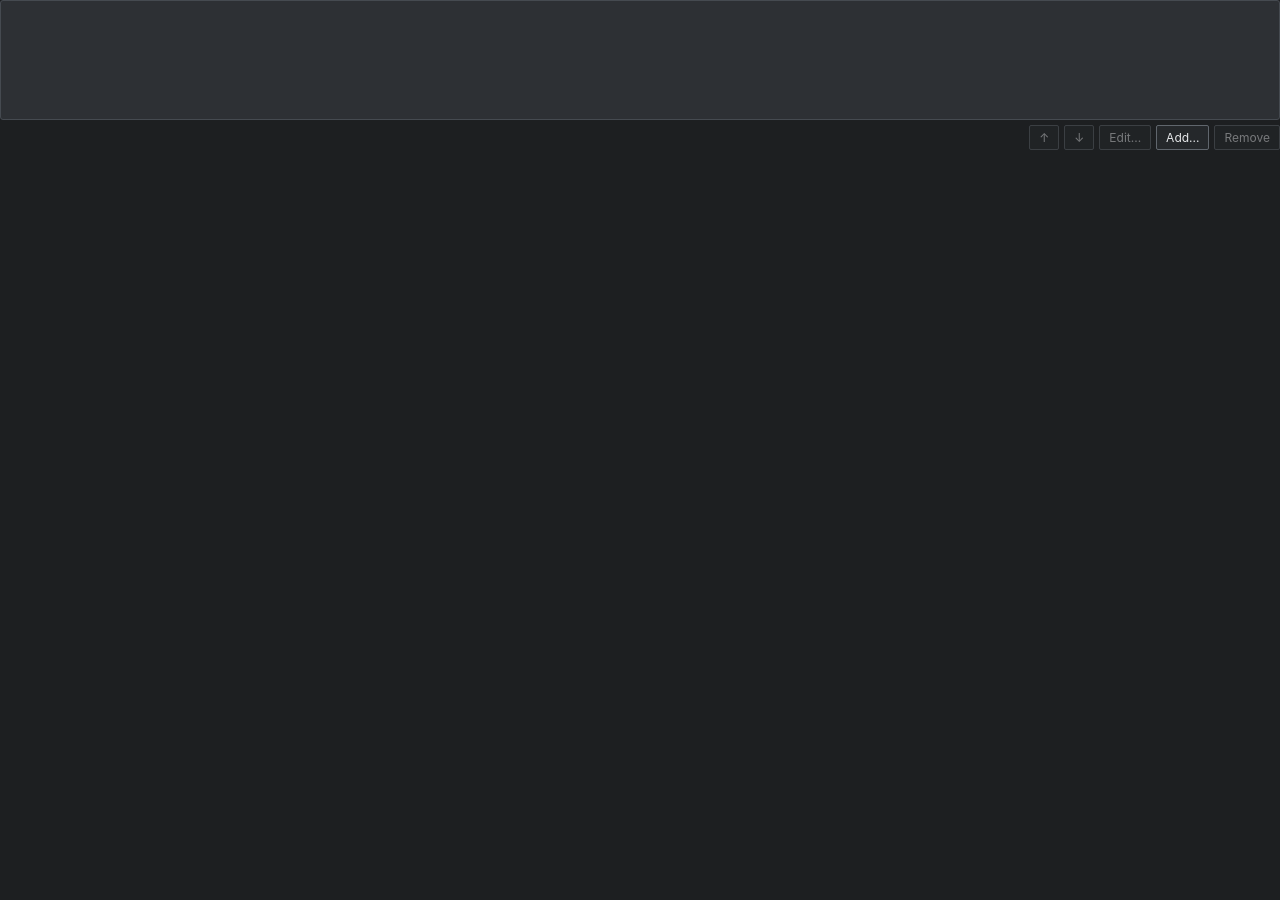
it: MethodOverrideListEditor › adds a row for the method that was picked, with no body — the method being edited is its body
Click the button "Add..." at x=1183, y=138, box [1156,125,1210,150]
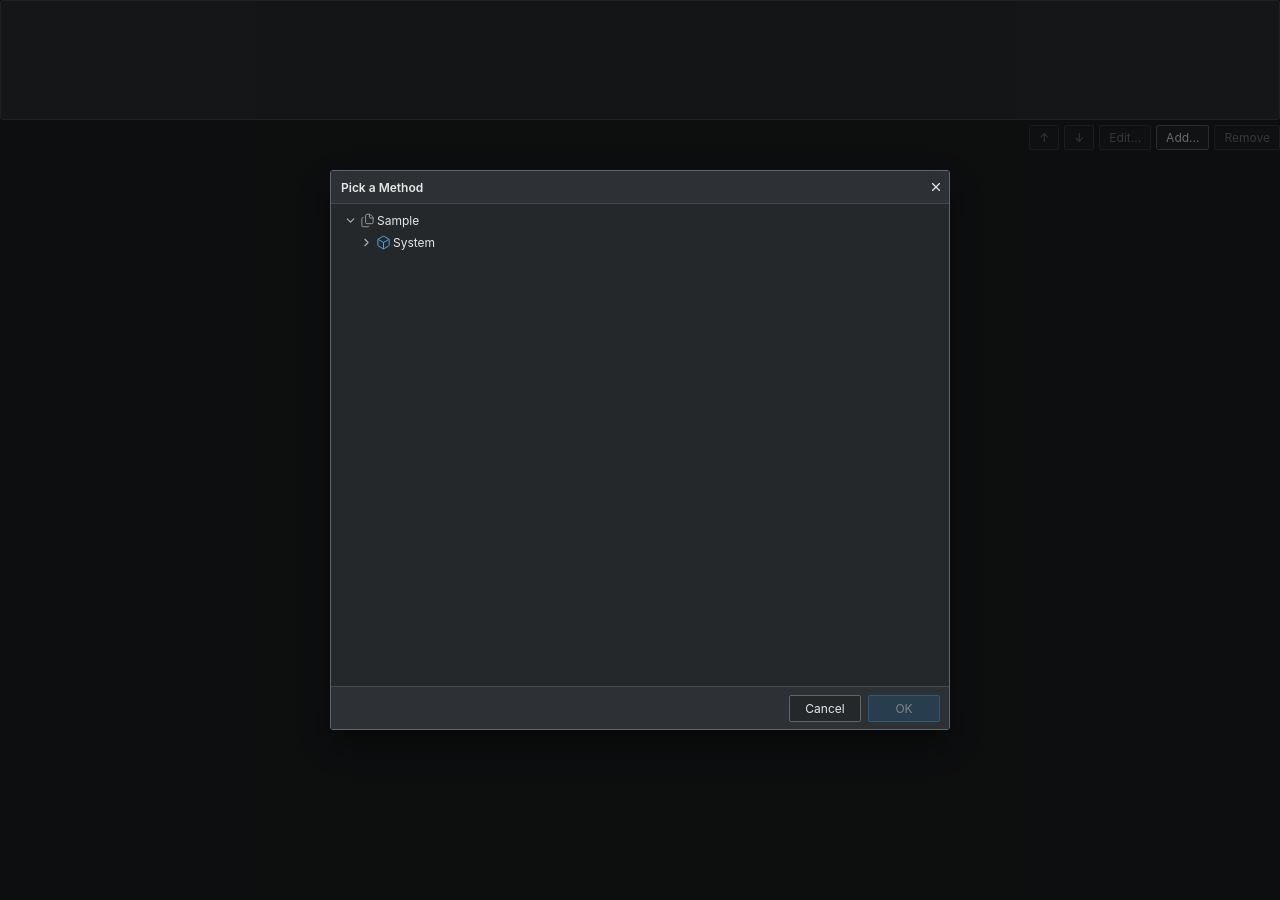
Now the text "Sample" is shown, box [377,212,419,228]
Click the button named "Expand" at x=366, y=242, box [358,233,374,251]
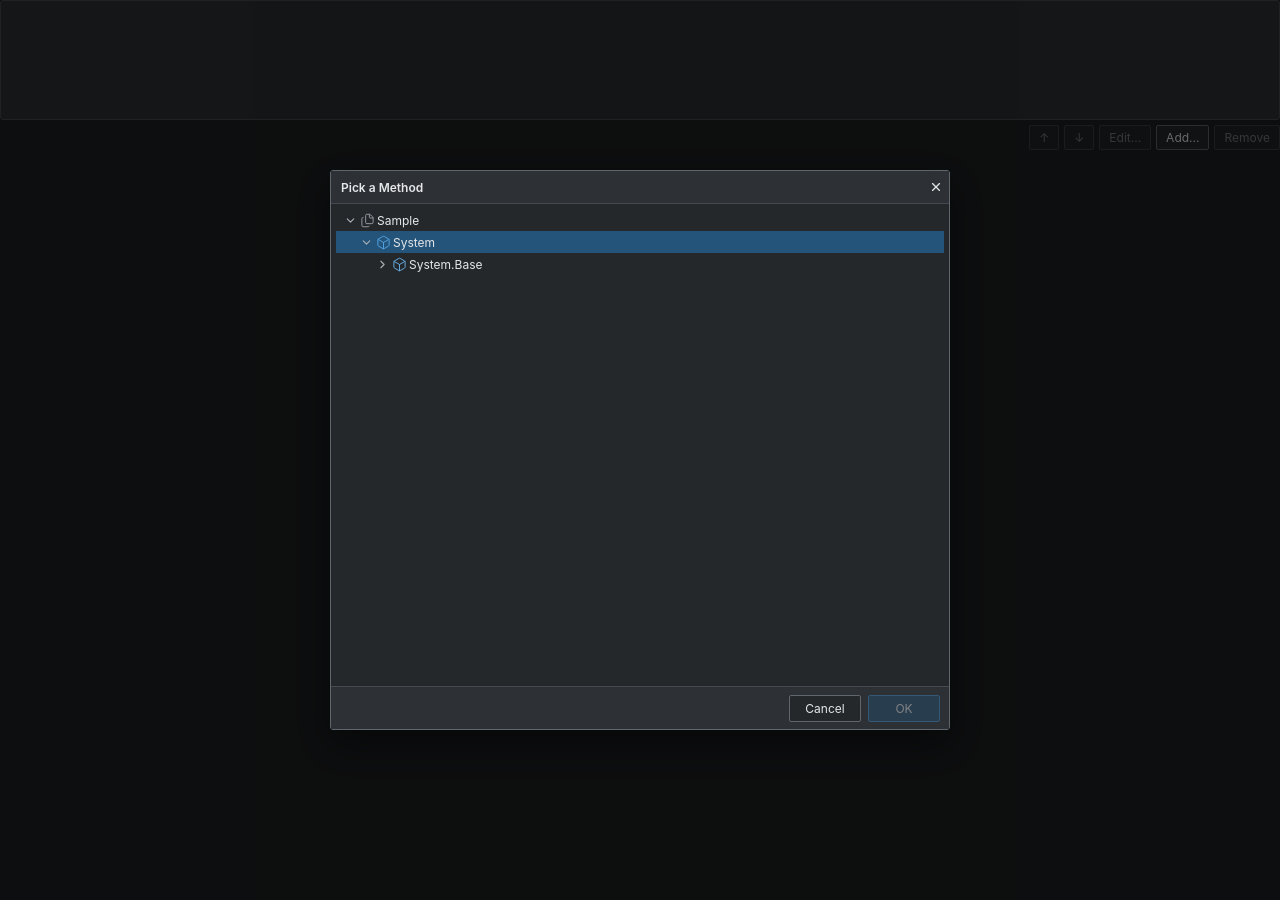
Now the text "System.Base" is shown, box [409,256,482,272]
Click the button named "Expand" at x=382, y=264, box [374,255,390,273]
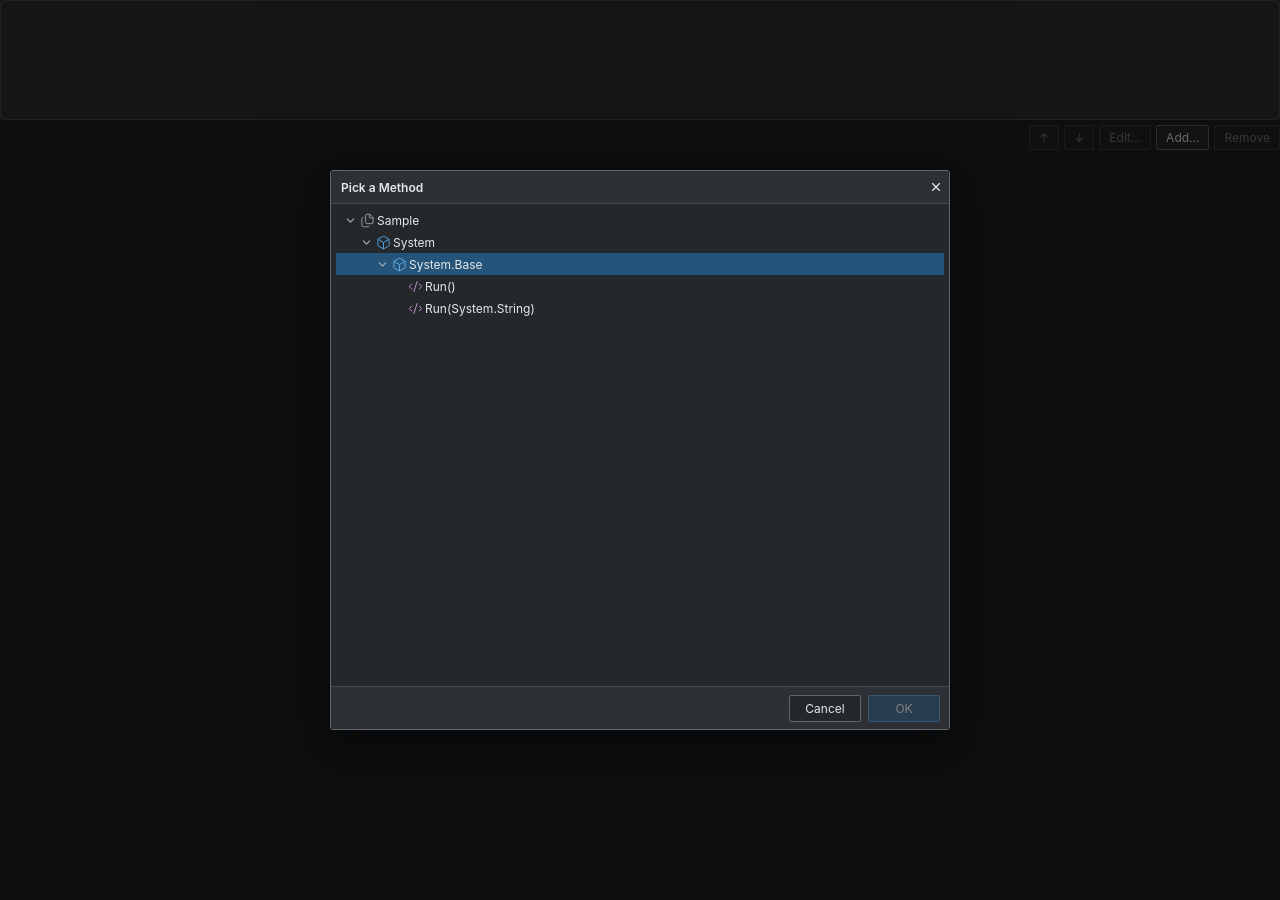
Click the text "Run(System.String)" at x=480, y=308, box [425,300,535,316]
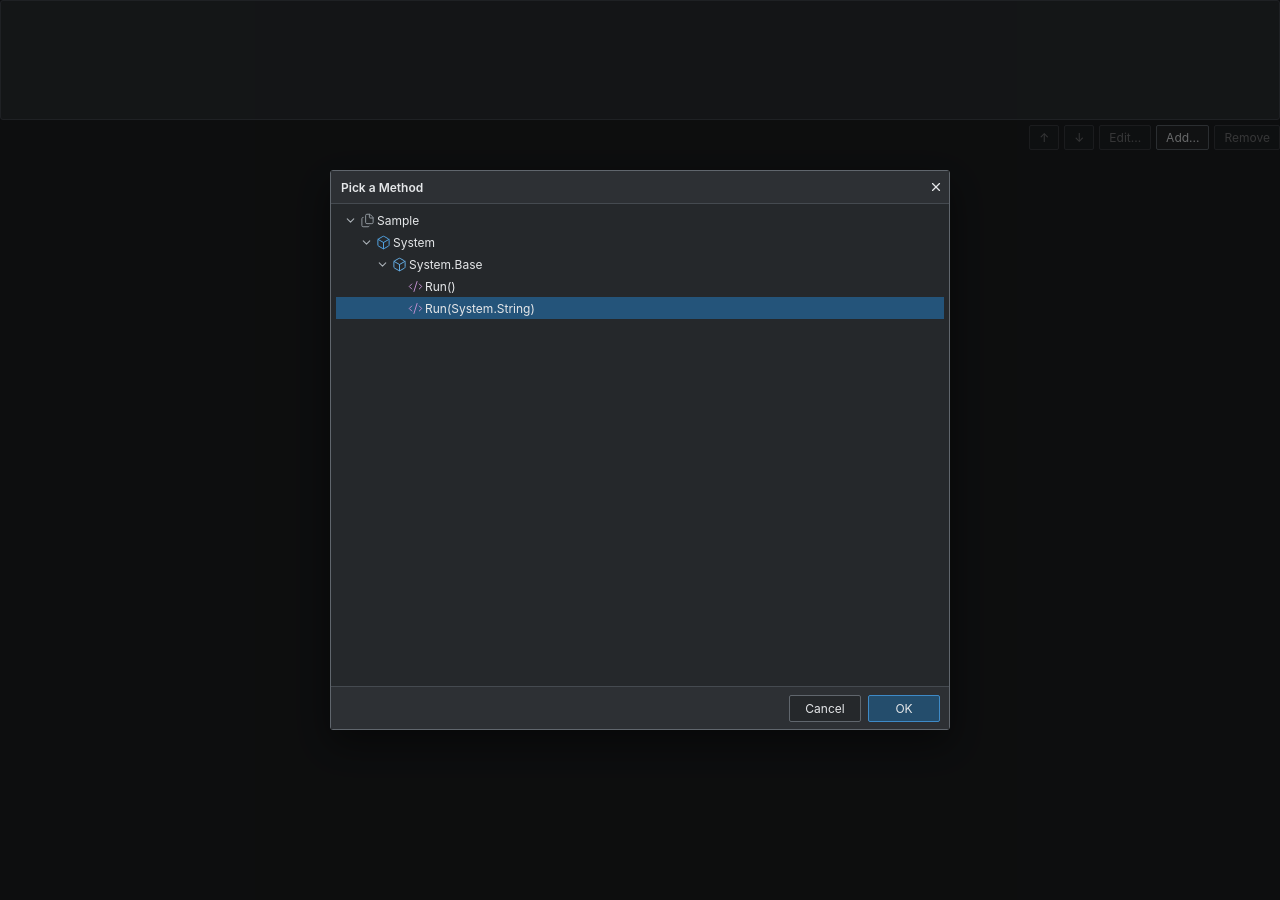
Click the button "OK" at x=904, y=708, box [868,694,940,722]
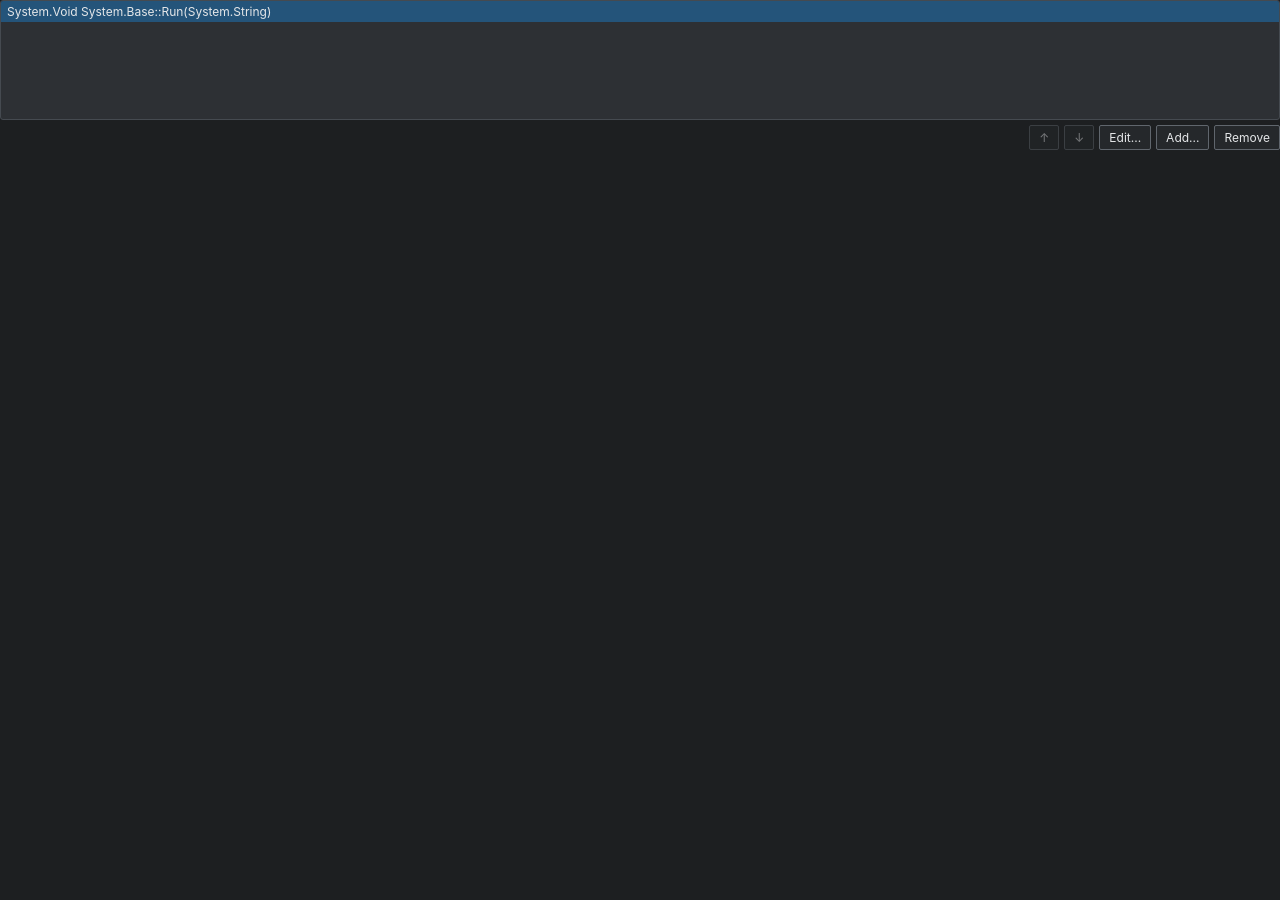
Now the text "Pick a Method" is gone
